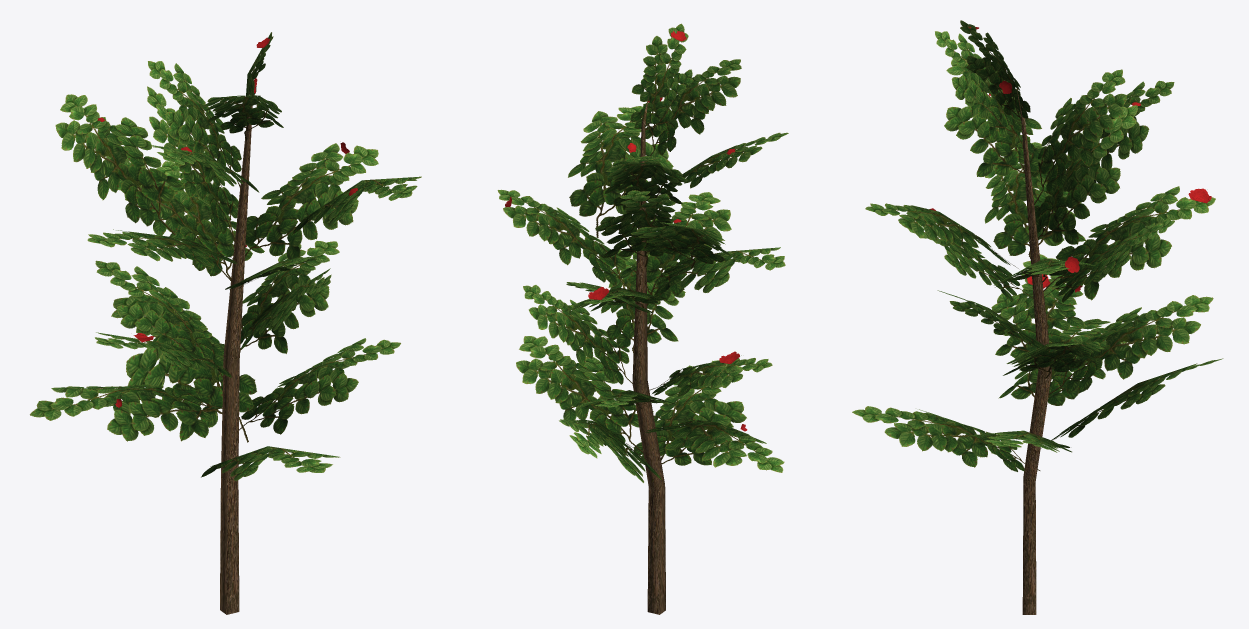
File: rose.dae
The picture shows the model from 3 angles, left to right: view 1: azimuth 30°, elevation 25°; view 2: azimuth 150°, elevation 25°; view 3: azimuth 270°, elevation 25°; orthographic projection. The views are drawn at different scales.
Parts seen in each view (by area): view 1: roseBush; view 2: roseBush; view 3: roseBush.
Part boxes in pixels (box(x1,y1,x2,y2)): roseBush: box(30, 32, 421, 614); roseBush: box(497, 23, 788, 614); roseBush: box(852, 20, 1223, 614).
Bounding box in the file's own units: 0.5262 × 0.8856 × 0.5103.
1 material, 1 textured.
